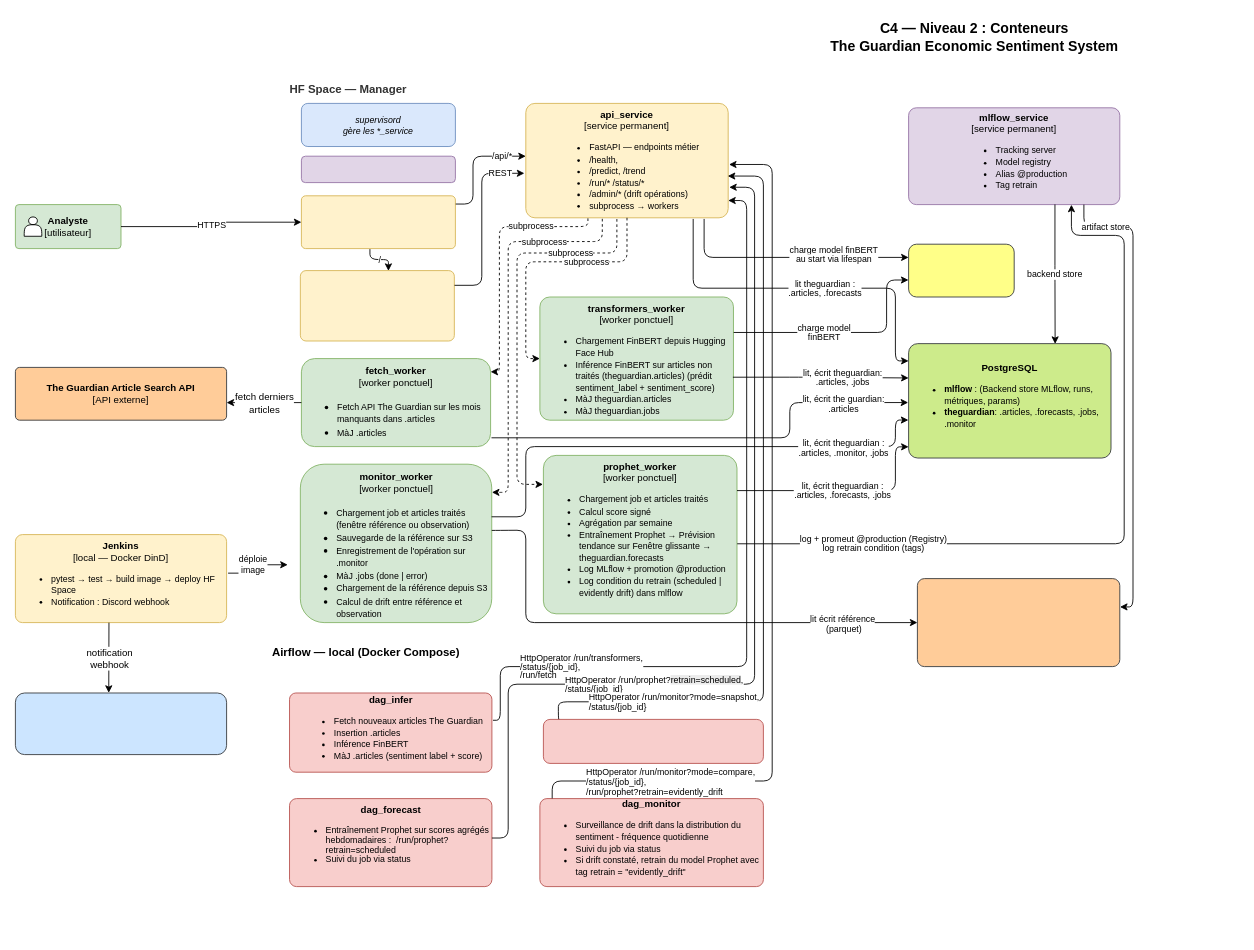
The diagram is 1254 pixels wide and 950 high, and some of its shapes have lost their labels. Here are the shapes that lost their labels. From the top down, the centre of each, then its label:
the point at 378,169: pipeline/ = lib partagée
the point at 1027,164: HF Space — MLflow
the point at 378,222: nginx_service [service permanent] Reverse proxy
the point at 961,270: Hugging Face FinBERT
the point at 376,305: streamlit_service [service permanent] Dashboard Scores + tendances Prophet
the point at 1018,622: S3 [stockage externe] Artifact store MLflow Snapshots Evidently IPC DAGs Airflow
the point at 121,723: Discord [serveur notifications] affiche notification
the point at 653,741: dag_snapshot Schedule : mensuel
